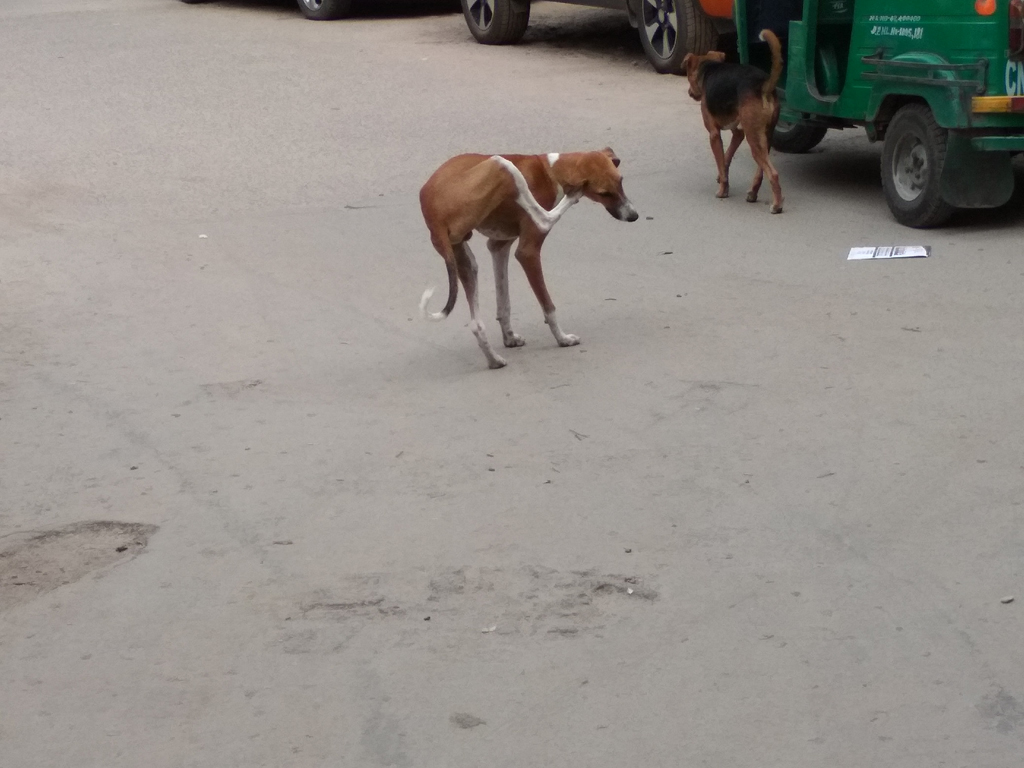dog: (420, 146, 639, 370), (680, 28, 784, 213)
